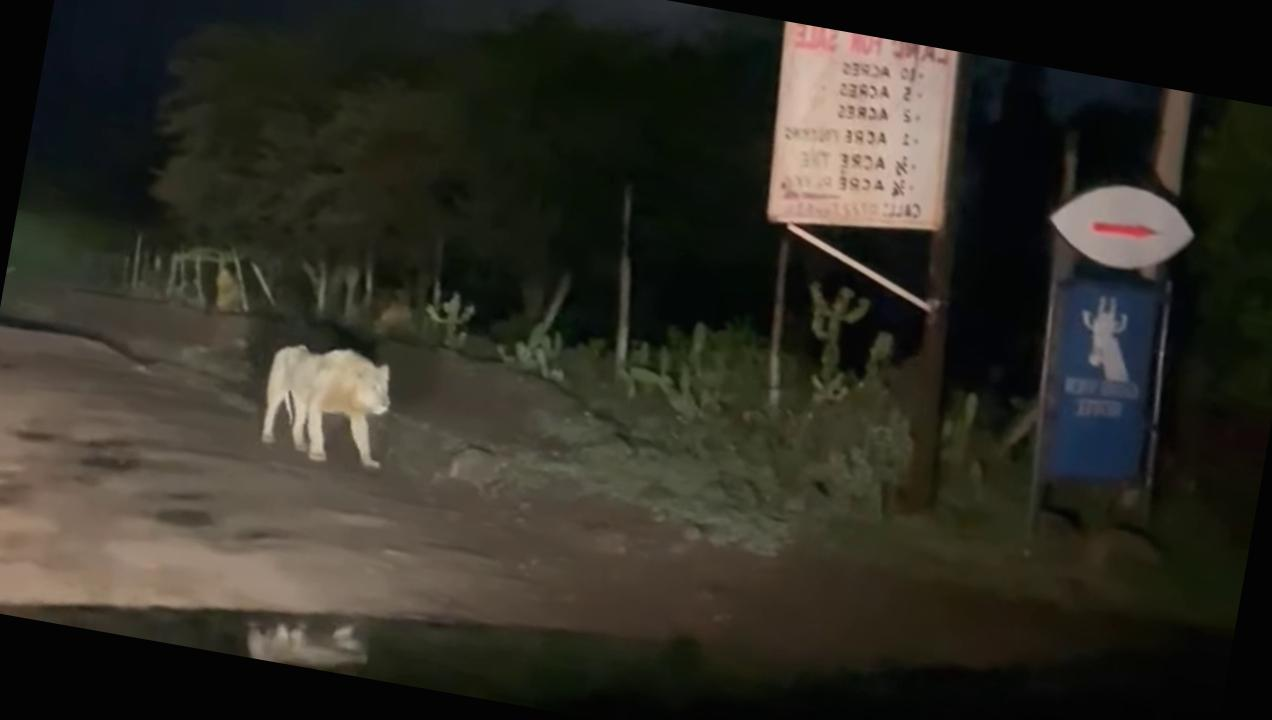lions: (225, 313, 451, 491)
